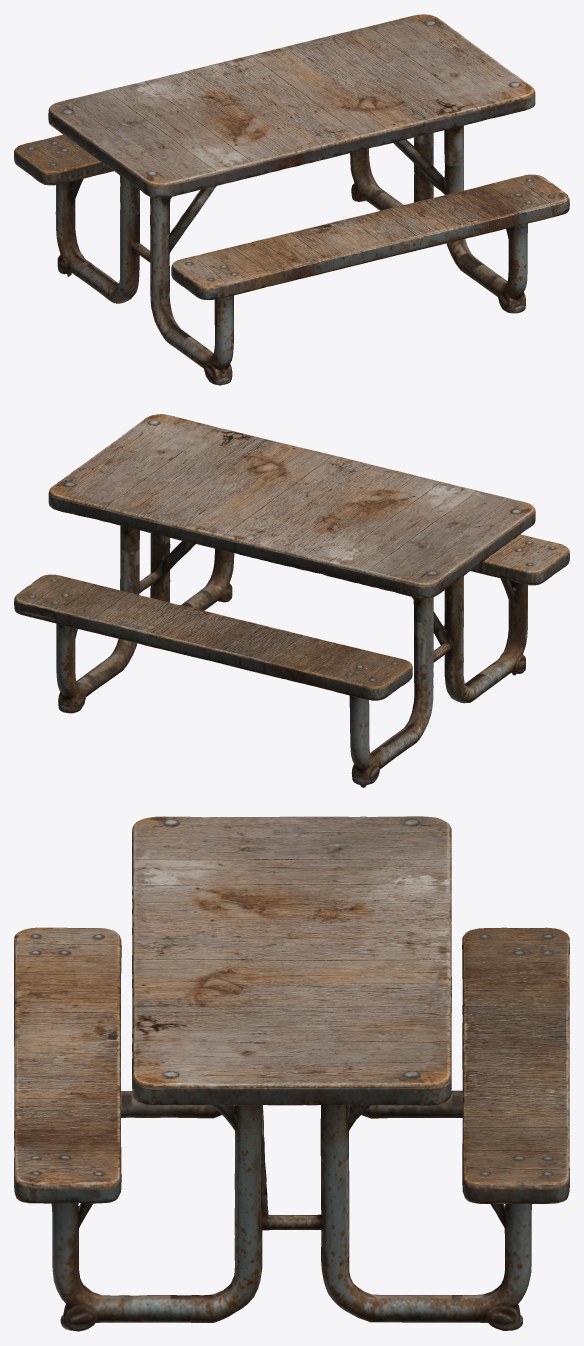
File: DiningTable.fbx
The picture shows the model from 3 angles, top to bottom: view 1: azimuth 30°, elevation 25°; view 2: azimuth 150°, elevation 25°; view 3: azimuth 270°, elevation 25°; orthographic projection. The views are drawn at different scales.
Parts seen in each view (by area): view 1: texture_mapping; view 2: texture_mapping; view 3: texture_mapping.
Part boxes in pixels (bbox=[...]): texture_mapping: bbox=[14, 14, 569, 385]; texture_mapping: bbox=[14, 414, 569, 787]; texture_mapping: bbox=[14, 816, 569, 1331].
Bounding box in the file's own units: 0.9978 × 0.8684 × 0.4914.
1 material, 1 textured.
